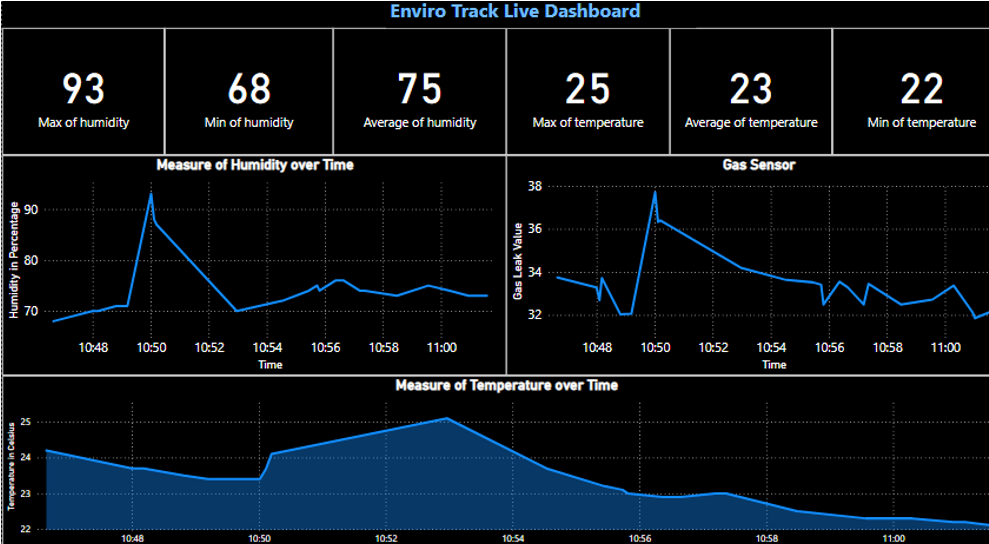

The dashboard page shown, as its layout file describes it:
{"tool":"powerbi","page":{"name":"Page 1","canvas":[1280,720],"ordinal":0},"visuals":[{"type":"card","fields":{"Values":["Avg(ESP32_01 RECORD DATA TABLE.TEMPERATURE (℃))"]},"box":[0,0,252.5,183.8],"z":0},{"type":"card","fields":{"Values":["Max(ESP32_01 RECORD DATA TABLE.TEMPERATURE (℃))"]},"box":[252.5,0,228.8,183.8],"z":1000},{"type":"card","fields":{"Values":["Avg(ESP32_01 RECORD DATA TABLE.HUMIDITY (%))"]},"box":[481.2,1.2,243.8,183.8],"z":2000},{"type":"card","fields":{"Values":["Max(ESP32_01 RECORD DATA TABLE.HUMIDITY (%))"]},"box":[725,0,191.2,183.8],"z":3000},{"type":"gauge","fields":{"Y":["Max(ESP32_01 RECORD DATA TABLE.GAS DETECTION)"]},"box":[916.2,0,363.8,183.8],"z":4000},{"type":"lineChart","title":"Humidity level over Time","fields":{"Category":["ESP32_01 RECORD DATA TABLE.TIME"],"Y":["Sum(ESP32_01 RECORD DATA TABLE.HUMIDITY (%))"]},"box":[0,185,640,270],"z":5000},{"type":"lineChart","title":"Gas Detected over Time","fields":{"Category":["ESP32_01 RECORD DATA TABLE.TIME"],"Y":["Sum(ESP32_01 RECORD DATA TABLE.GAS DETECTION)"]},"box":[640,185,640,270],"z":6000},{"type":"lineChart","title":"Temperature Rise over Time","fields":{"Category":["ESP32_01 RECORD DATA TABLE.TIME"],"Y":["Sum(ESP32_01 RECORD DATA TABLE.TEMPERATURE (℃))"]},"box":[0,455,1280,265],"z":7000}]}

Visuals, with their boxes in screenshot pixels (x1, y1, x2, y2), scaled from the page's 1280x720 canvas onto the 989x544 screenshot:
card - Avg(ESP32_01 RECORD DATA TABLE.TEMPERATURE (℃)): bbox=[0, 0, 195, 139]
card - Max(ESP32_01 RECORD DATA TABLE.TEMPERATURE (℃)): bbox=[195, 0, 372, 139]
card - Avg(ESP32_01 RECORD DATA TABLE.HUMIDITY (%)): bbox=[372, 1, 560, 140]
card - Max(ESP32_01 RECORD DATA TABLE.HUMIDITY (%)): bbox=[560, 0, 708, 139]
gauge - Max(ESP32_01 RECORD DATA TABLE.GAS DETECTION): bbox=[708, 0, 988, 139]
"Humidity level over Time" lineChart: bbox=[0, 140, 494, 344]
"Gas Detected over Time" lineChart: bbox=[494, 140, 988, 344]
"Temperature Rise over Time" lineChart: bbox=[0, 344, 988, 543]
